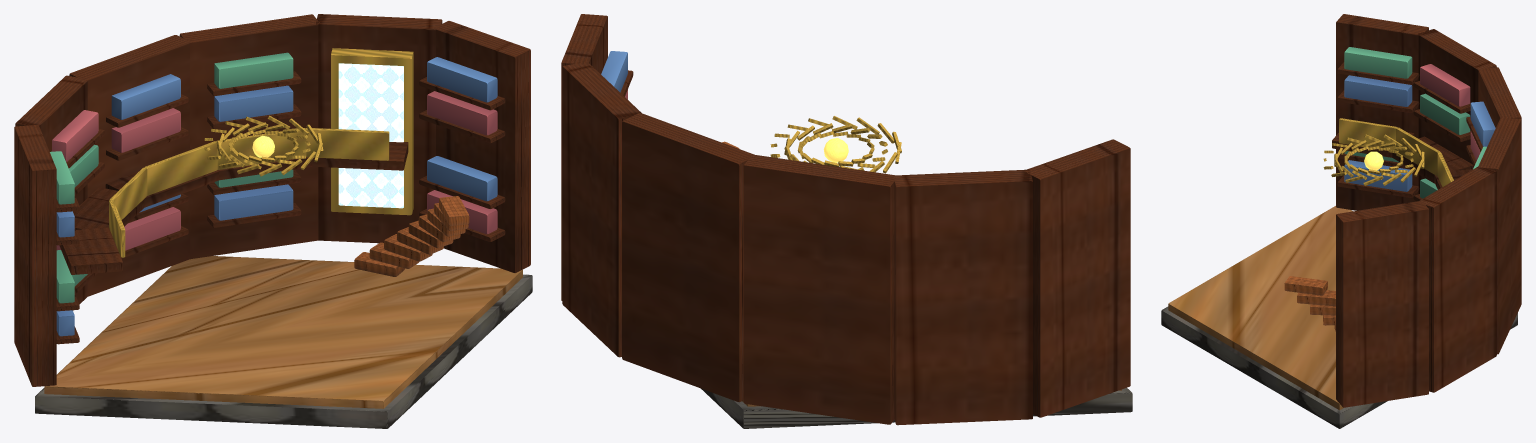
File: env_castle_study_tower.glb
The picture shows the model from 3 angles, left to right: view 1: azimuth 30°, elevation 25°; view 2: azimuth 150°, elevation 25°; view 3: azimuth 270°, elevation 25°; orthographic projection. The views are drawn at different scales.
Visible parts, largest first — view 1: ST_Floor, ST_ArcWall_3, ST_ArcWall_5, ST_Floor_Rim, ST_ArcWall_4, ST_ArcWall_0, ST_ArcWall_2, ST_StarWinPane, ST_StarWinFrame, ST_ArcWall_1, ST_MezzRail_4, ST_MezzDeck_0 (+37 smaller); view 2: ST_ArcWall_2, ST_ArcWall_1, ST_ArcWall_3, ST_ArcWall_0, ST_ArcWall_4, ST_Floor_Rim, ST_ArcWall_5, ST_Books_5_2.55; view 3: ST_ArcWall_5, ST_Floor, ST_ArcWall_4, ST_ArcWall_0, ST_ArcWall_3, ST_Floor_Rim, ST_ArcWall_1, ST_Books_0_2.55, ST_Books_0_2.05, ST_ArcWall_2, ST_Books_1_2.55, ST_MezzRail_0 (+13 smaller).
Boxes of the visible parts, x1,y1,x2,y2 form: ST_Floor: (44, 256, 522, 408); ST_ArcWall_3: (179, 14, 320, 259); ST_ArcWall_5: (434, 21, 530, 272); ST_Floor_Rim: (35, 274, 532, 428); ST_ArcWall_4: (316, 14, 442, 243); ST_ArcWall_0: (14, 125, 56, 386); ST_ArcWall_2: (69, 35, 190, 296); ST_StarWinPane: (338, 63, 403, 208); ST_StarWinFrame: (331, 48, 413, 215); ST_ArcWall_1: (15, 75, 87, 304); ST_MezzRail_4: (306, 128, 389, 160); ST_MezzDeck_0: (59, 227, 122, 274); ST_ArcWall_2: (743, 154, 894, 424); ST_ArcWall_1: (893, 169, 1032, 425); ST_ArcWall_3: (622, 113, 755, 402); ST_ArcWall_0: (1024, 139, 1130, 417); ST_ArcWall_4: (562, 63, 641, 357); ST_Floor_Rim: (701, 387, 1132, 428); ST_ArcWall_5: (561, 14, 607, 300); ST_Books_5_2.55: (601, 51, 627, 92); ST_ArcWall_5: (1336, 201, 1428, 407); ST_Floor: (1168, 206, 1352, 410); ST_ArcWall_4: (1418, 167, 1496, 392); ST_ArcWall_0: (1336, 14, 1428, 210); ST_ArcWall_3: (1478, 117, 1521, 354); ST_Floor_Rim: (1161, 306, 1517, 428); ST_ArcWall_1: (1417, 29, 1496, 193); ST_Books_0_2.55: (1344, 47, 1412, 78); ST_Books_0_2.05: (1344, 75, 1412, 106); ST_ArcWall_2: (1478, 67, 1521, 127); ST_Books_1_2.55: (1420, 64, 1470, 106); ST_MezzRail_0: (1339, 118, 1397, 150).
Bounding box in the file's own units: 7.92 × 3.66 × 5.78.
9 materials, 6 textured.
